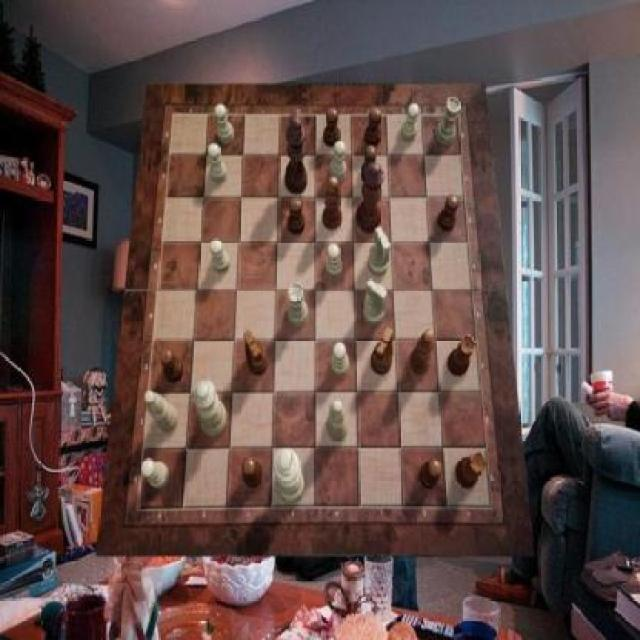bishop: (409, 330, 434, 376), (323, 175, 343, 230)
black-bishop: (284, 114, 308, 195)
black-king: (243, 330, 268, 376), (371, 329, 394, 377)
black-knight: (437, 195, 459, 233), (160, 348, 184, 382), (420, 458, 443, 491), (364, 108, 382, 148), (323, 108, 340, 148), (362, 146, 378, 185), (242, 457, 262, 488), (288, 198, 305, 234)
black-pawn: (357, 161, 386, 234)
black-queen: (449, 335, 477, 377), (456, 451, 486, 489)
black-rook: (146, 391, 180, 433), (326, 398, 349, 441)
white-bishop: (274, 448, 306, 504)
white-king: (368, 226, 390, 277), (363, 280, 387, 326)
white-knight: (208, 143, 228, 185), (214, 103, 234, 145), (142, 458, 169, 489), (400, 103, 420, 142), (330, 140, 348, 182), (210, 238, 232, 272), (326, 244, 343, 280), (331, 342, 348, 376)
white-pawn: (194, 379, 229, 436)
white-queen: (437, 97, 461, 146), (288, 281, 308, 327)
